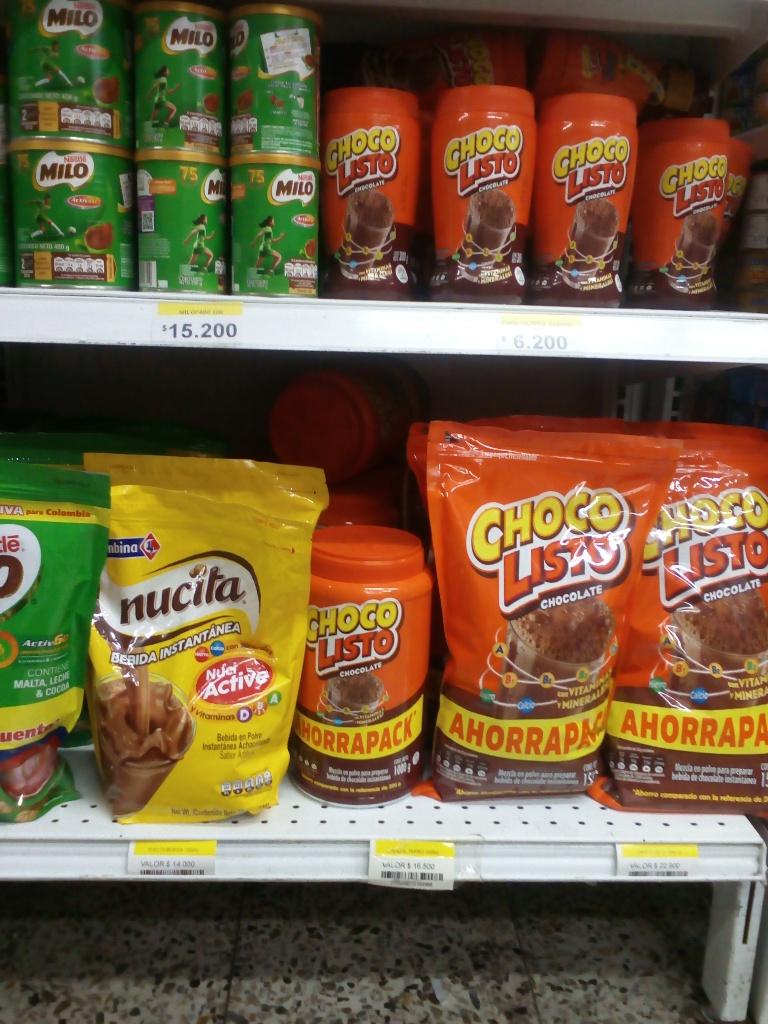COL0170103TRR00100: (287, 525, 436, 807)
COL0170203LAT20000: (218, 154, 323, 297)
COL0170203LAT40000: (3, 141, 142, 291)
